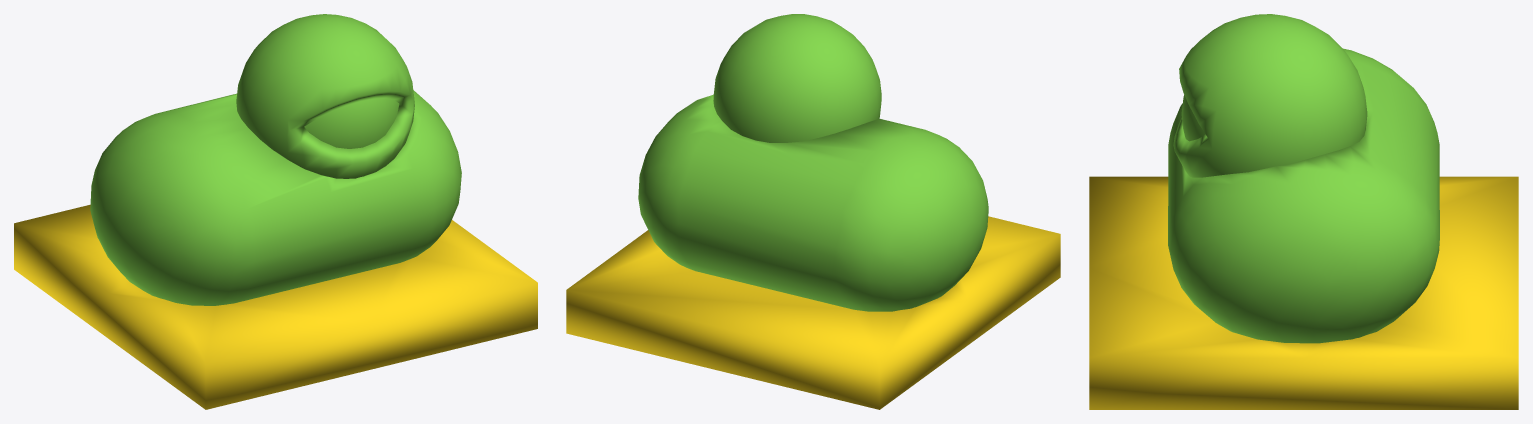
File: baby_5.glb
3 renders of one model, left to right at view 1: azimuth 30°, elevation 25°; view 2: azimuth 150°, elevation 25°; view 3: azimuth 270°, elevation 25°, orthographic. The views are drawn at different scales.
Visible parts, largest first — view 1: figura, basetta; view 2: figura, basetta; view 3: figura, basetta.
Boxes of the visible parts, x1,y1,x2,y2 form: figura: [90, 14, 461, 305]; basetta: [14, 204, 537, 409]; figura: [638, 14, 988, 311]; basetta: [566, 216, 1060, 409]; figura: [1168, 14, 1439, 343]; basetta: [1089, 176, 1518, 409].
Bounding box in the file's own units: 0.015 × 0.0121 × 0.015.
